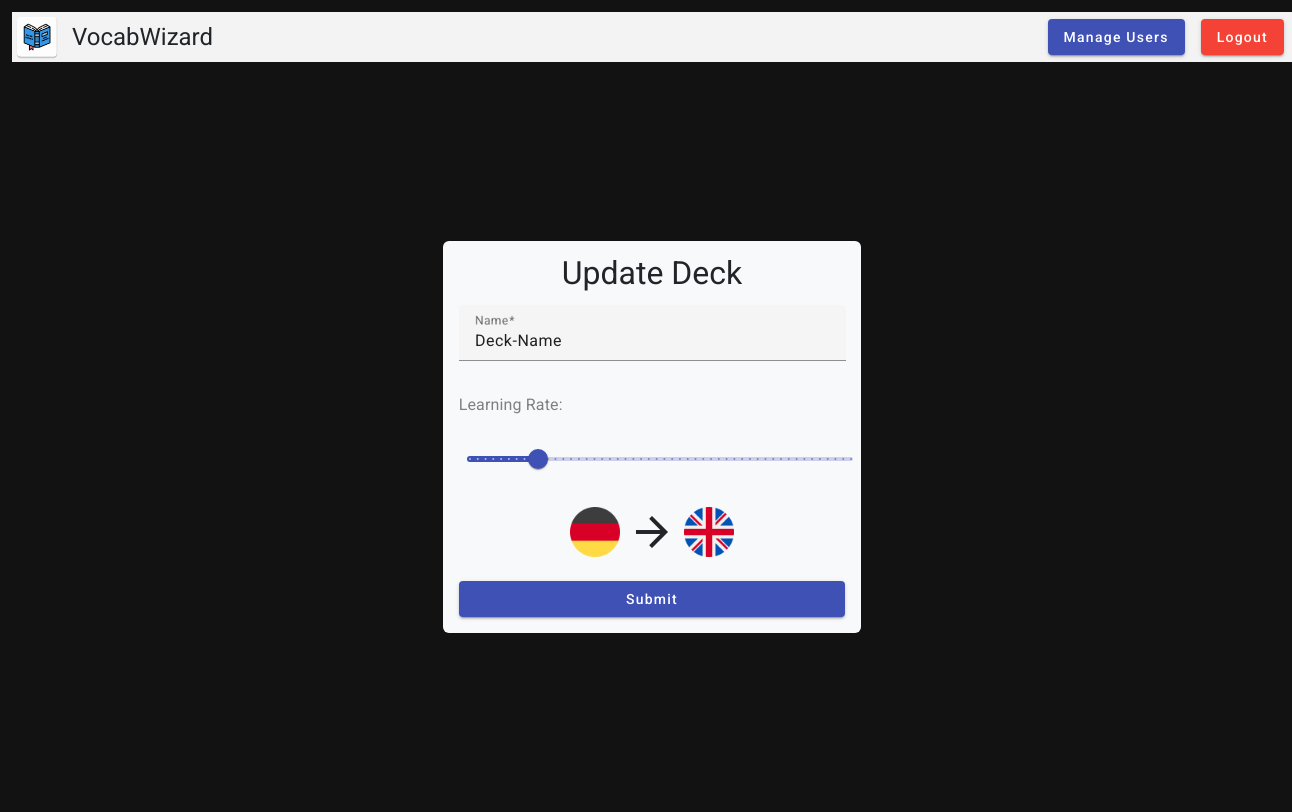
Form Validation › should display general error if server-side problem occours
Replace the text in the field with test id "update-deck-name-input-field" with "Test" at [653, 341], box [475,329,830,353]
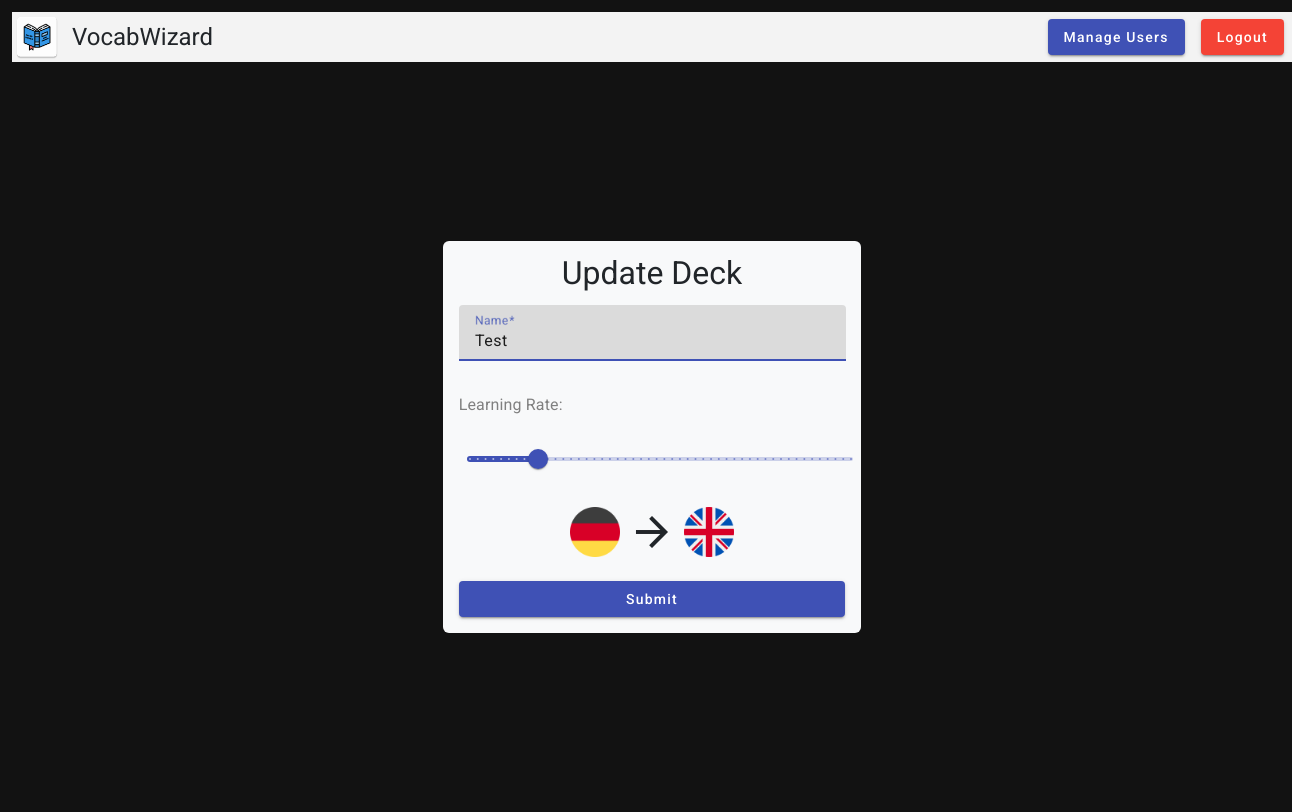
Expected: the field with test id "update-deck-name-input-field" holds "Test", [475,329,830,353]
Click the button with test id "update-deck-submit-button" at [653, 599], box [459,581,846,617]
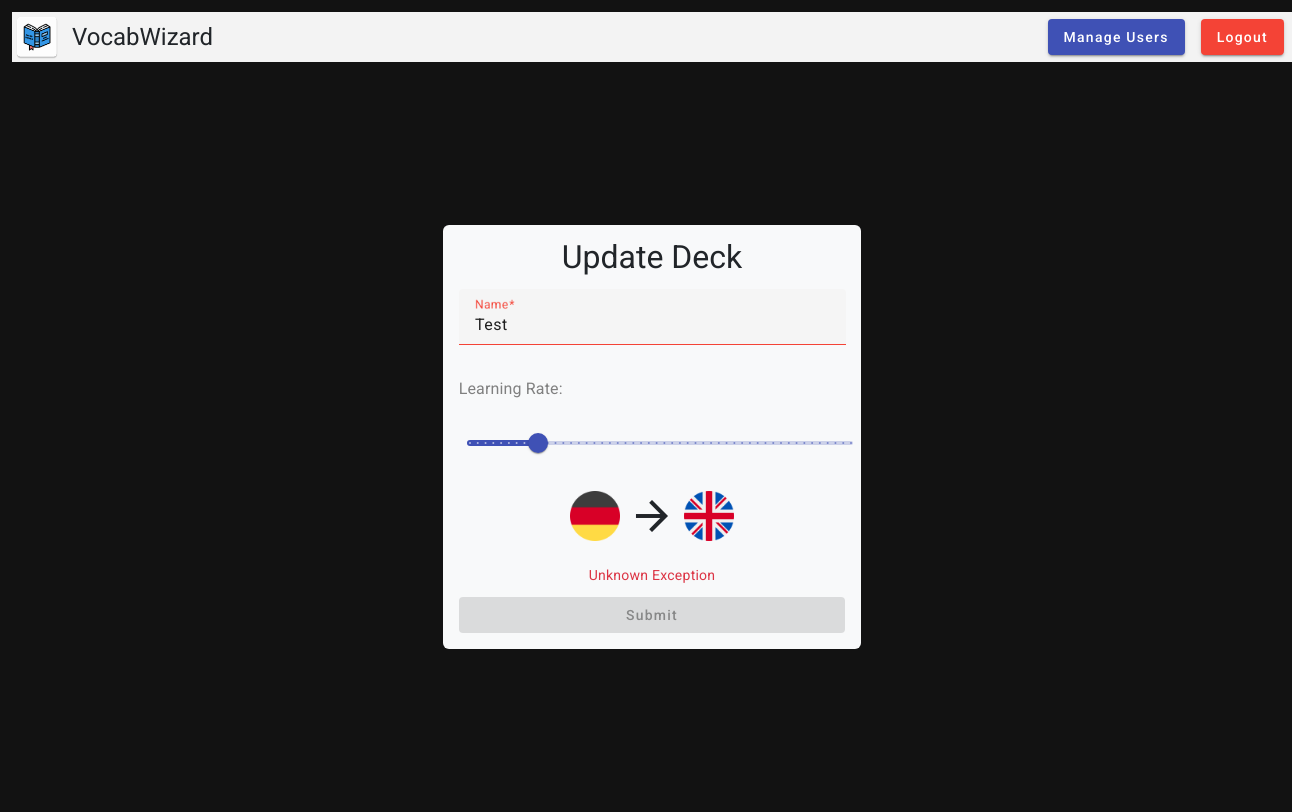
Expected: the text "Unknown Exception" is shown, [589,567,715,583]
Expected: the text with test id "update-deck-general-error" reads "Unknown Exception", [589,567,716,583]
